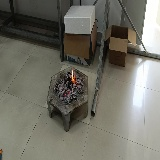fire: (71, 66, 75, 83)
